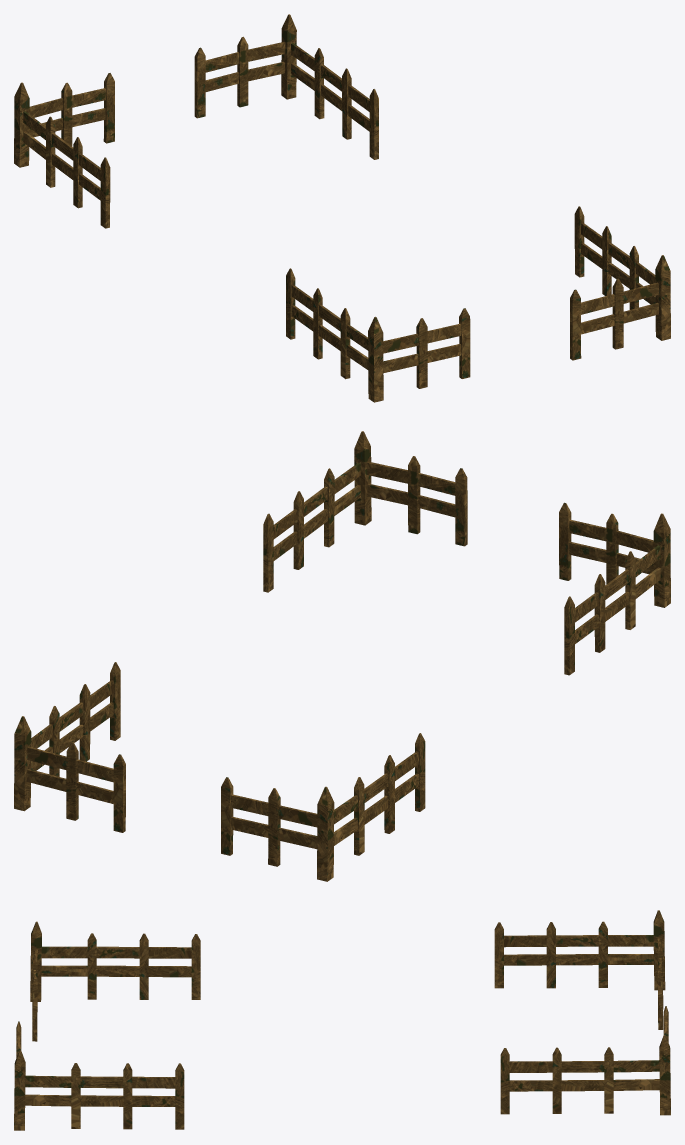
Rendered from Cercas new.fbx.
The picture shows the model from 3 angles, top to bottom: view 1: azimuth 30°, elevation 25°; view 2: azimuth 150°, elevation 25°; view 3: azimuth 270°, elevation 25°; orthographic projection. The views are drawn at different scales.
Visible parts, largest first — view 1: Cerca1, Cerca_3, Cerca2, Cerca4; view 2: Cerca2, Cerca4, Cerca_3, Cerca1; view 3: Cerca1, Cerca4, Cerca2, Cerca_3.
Boxes of the visible parts, x1,y1,x2,y2 form: Cerca1: [286, 268, 470, 402]; Cerca_3: [194, 14, 378, 159]; Cerca2: [570, 206, 670, 360]; Cerca4: [14, 73, 114, 228]; Cerca2: [263, 431, 467, 592]; Cerca4: [221, 733, 425, 881]; Cerca_3: [14, 662, 125, 832]; Cerca1: [559, 502, 670, 675]; Cerca1: [30, 921, 200, 1041]; Cerca4: [494, 910, 665, 1029]; Cerca2: [14, 1021, 184, 1130]; Cerca_3: [500, 1006, 670, 1115].
Size of the model in its own units: 5.63 by 1.41 by 10.8.
